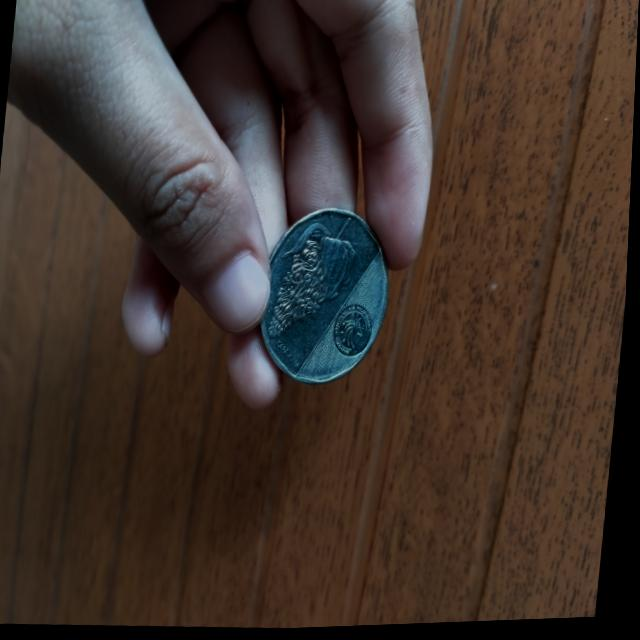10_New_Back: (262, 212, 369, 354)
